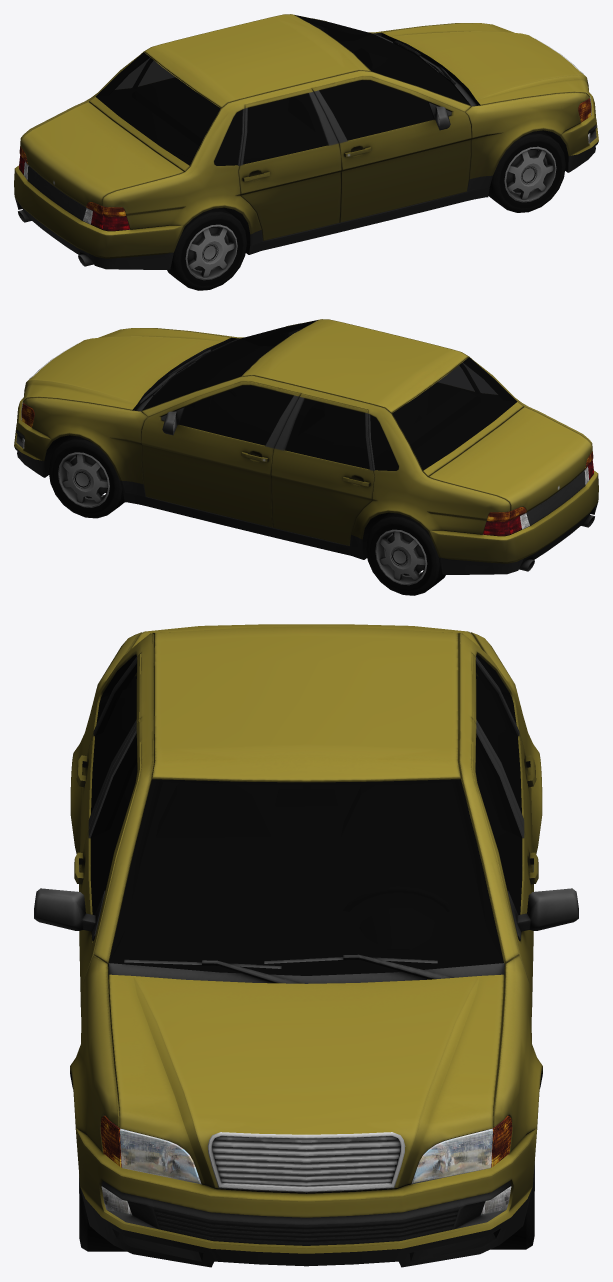
Rendered from Sedan2.glb.
The picture shows the model from 3 angles, top to bottom: view 1: azimuth 30°, elevation 25°; view 2: azimuth 150°, elevation 25°; view 3: azimuth 270°, elevation 25°; orthographic projection. The views are drawn at different scales.
Parts seen in each view (by area): view 1: Sedan Body_Glass_0; view 2: Sedan Body_Glass_0; view 3: Sedan Body_Glass_0.
Boxes of the visible parts, left/top/right/bottom form: Sedan Body_Glass_0: left=14, top=14, right=598, bottom=290; Sedan Body_Glass_0: left=14, top=319, right=598, bottom=595; Sedan Body_Glass_0: left=34, top=624, right=578, bottom=1267.
Bounding box in the file's own units: 4.36 × 1.34 × 1.94.
Materials: 4 (3 with a texture image).
